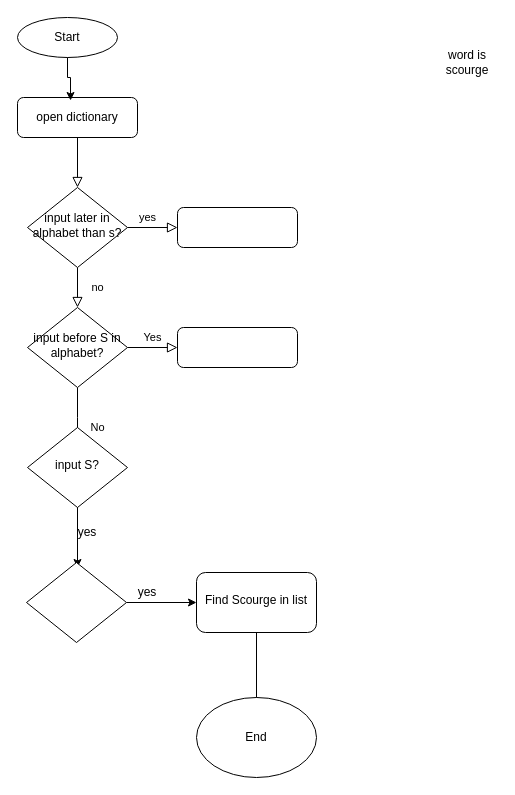
Some shapes in this 515 by 795 pixel diagram are drawn without their labels. Here are the shapes that lost their labels. From the top down, the centre of each, then its label:
At [237,227]: "flip back through pages".
At [237,347]: "go forward through pages".
At [76,602]: "input Sa - Sc?".
